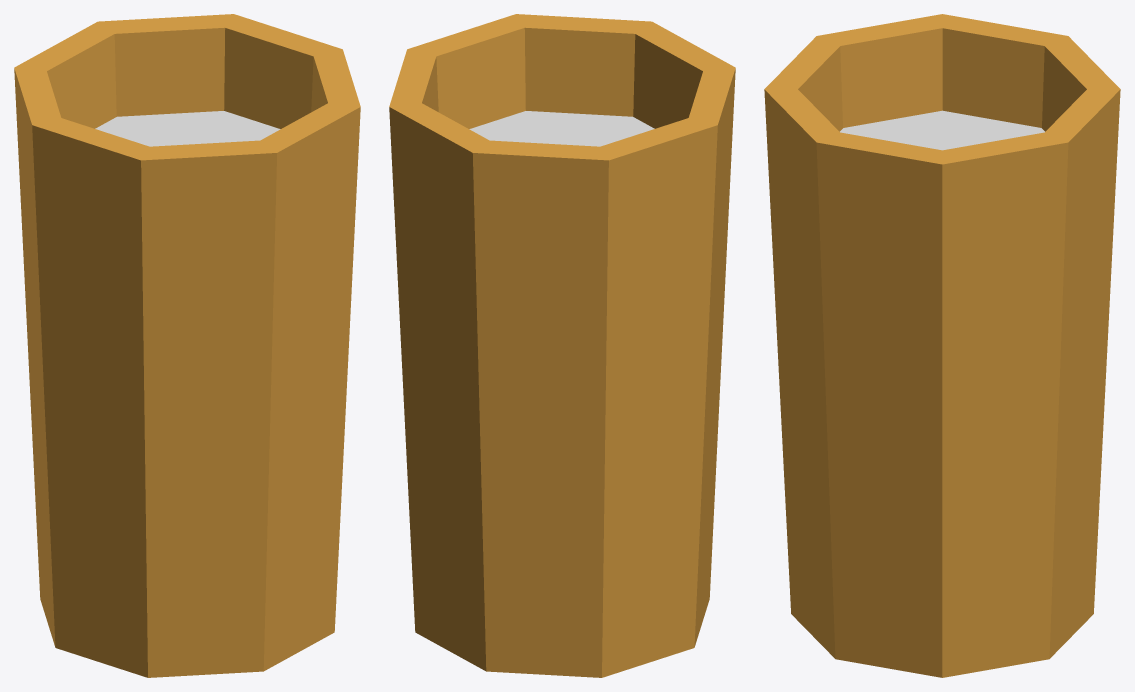
Rendered from SM_Glass_Juice_Orange.fbx.
3 views of the same model, side by side, from view 1: azimuth 30°, elevation 25°; view 2: azimuth 150°, elevation 25°; view 3: azimuth 270°, elevation 25° (orthographic).
Visible parts, largest first — view 1: glass-juice-orange; view 2: glass-juice-orange; view 3: glass-juice-orange.
Boxes of the visible parts, x1=… form: glass-juice-orange: x1=14, y1=14, x2=360, y2=677; glass-juice-orange: x1=389, y1=14, x2=735, y2=677; glass-juice-orange: x1=764, y1=14, x2=1120, y2=677.
Bounding box in the file's own units: 0.08 × 0.13 × 0.08.
